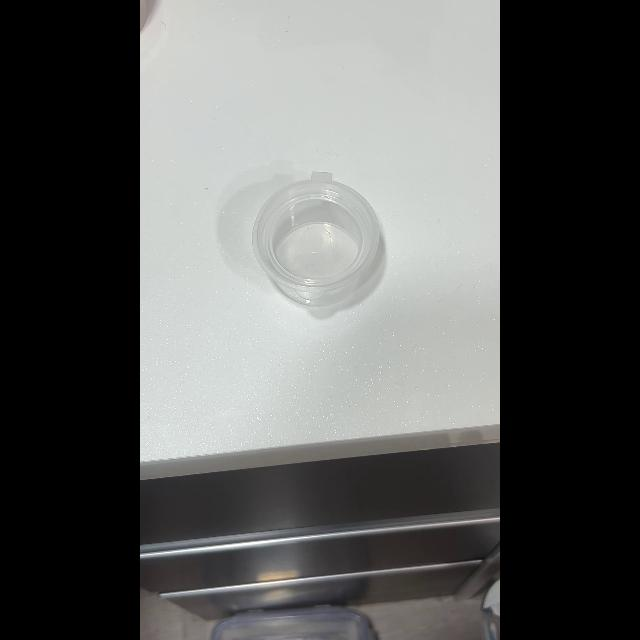clean: (254, 181, 382, 313)
